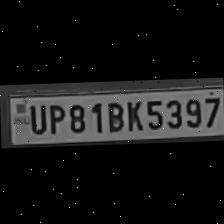1: (86, 98, 104, 133)
3: (164, 94, 182, 128)
5: (142, 94, 162, 128)
7: (200, 92, 222, 126)
8: (65, 99, 87, 134)
9: (182, 93, 200, 126)
B: (102, 97, 124, 131)
K: (122, 96, 144, 130)
P: (44, 100, 64, 134)
U: (24, 100, 46, 133)
